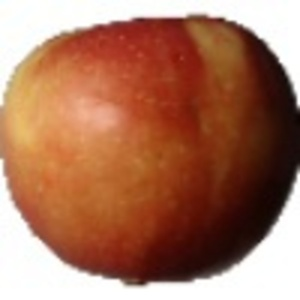maçã braeburn: (1, 10, 300, 287)
